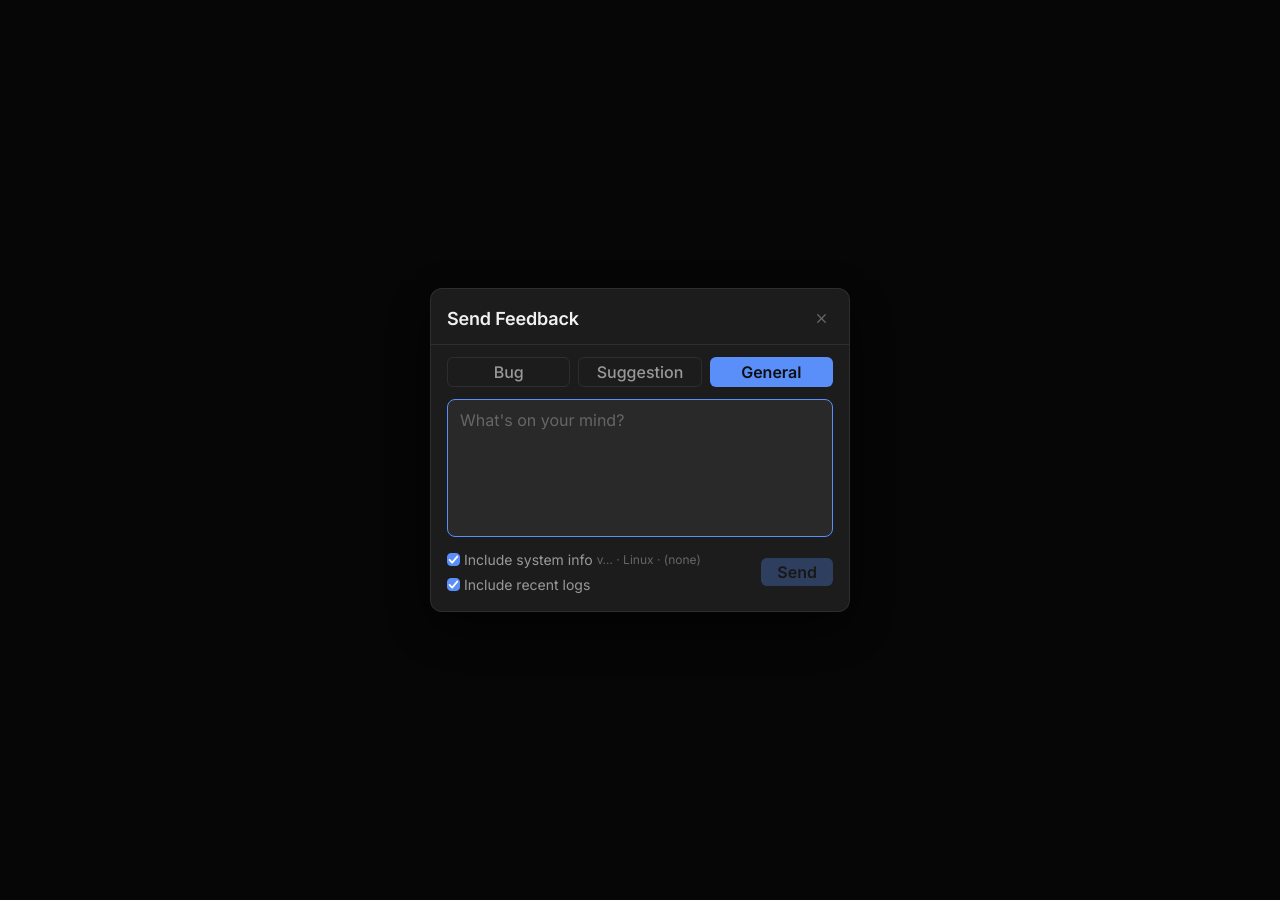
Scenario: FeedbackModal › logs why a send failed
Type "Love it" into the text box with class "feedback-textarea" at (640, 468), box [447,399,833,537]
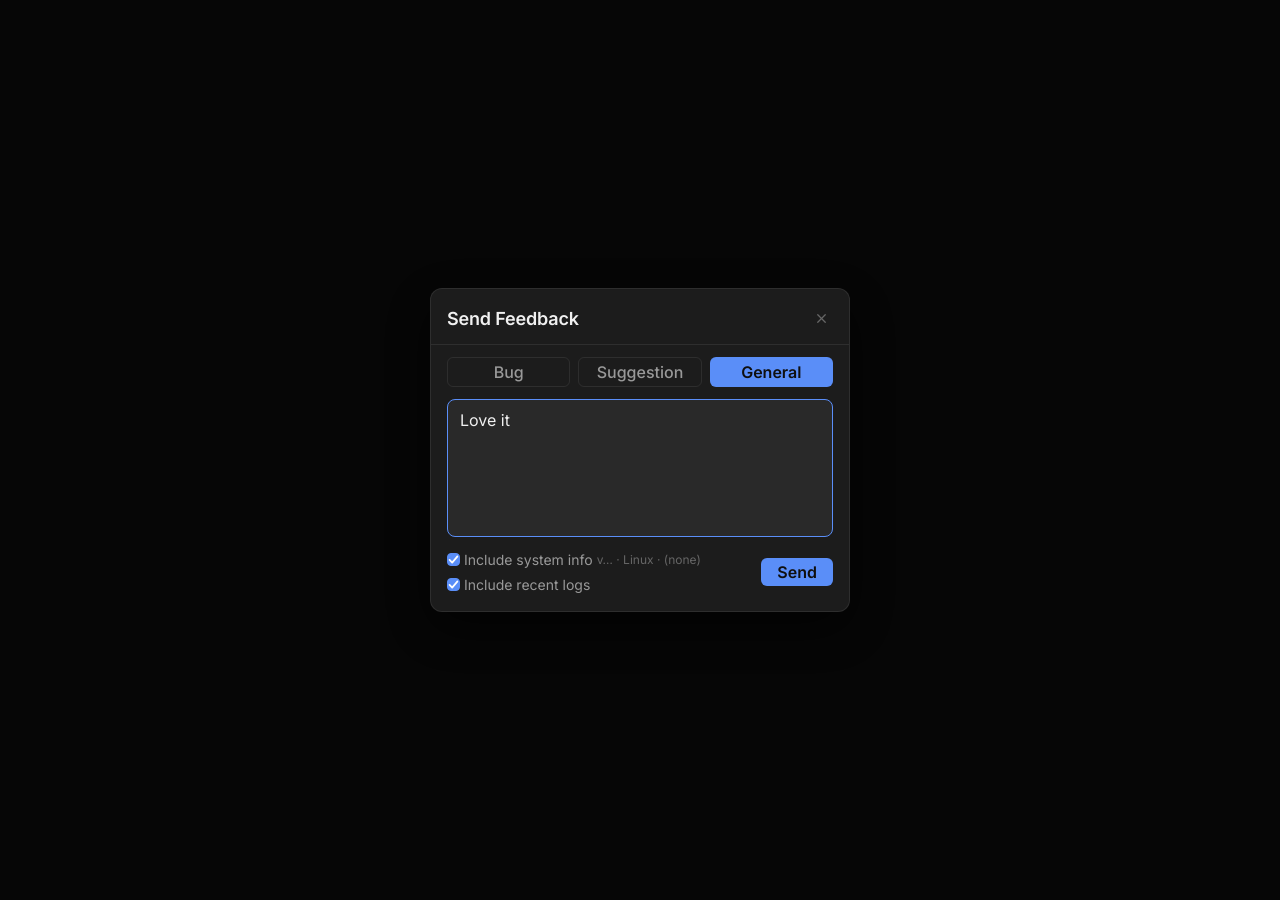
Click the button "Send" at (797, 572), box [761,558,833,586]
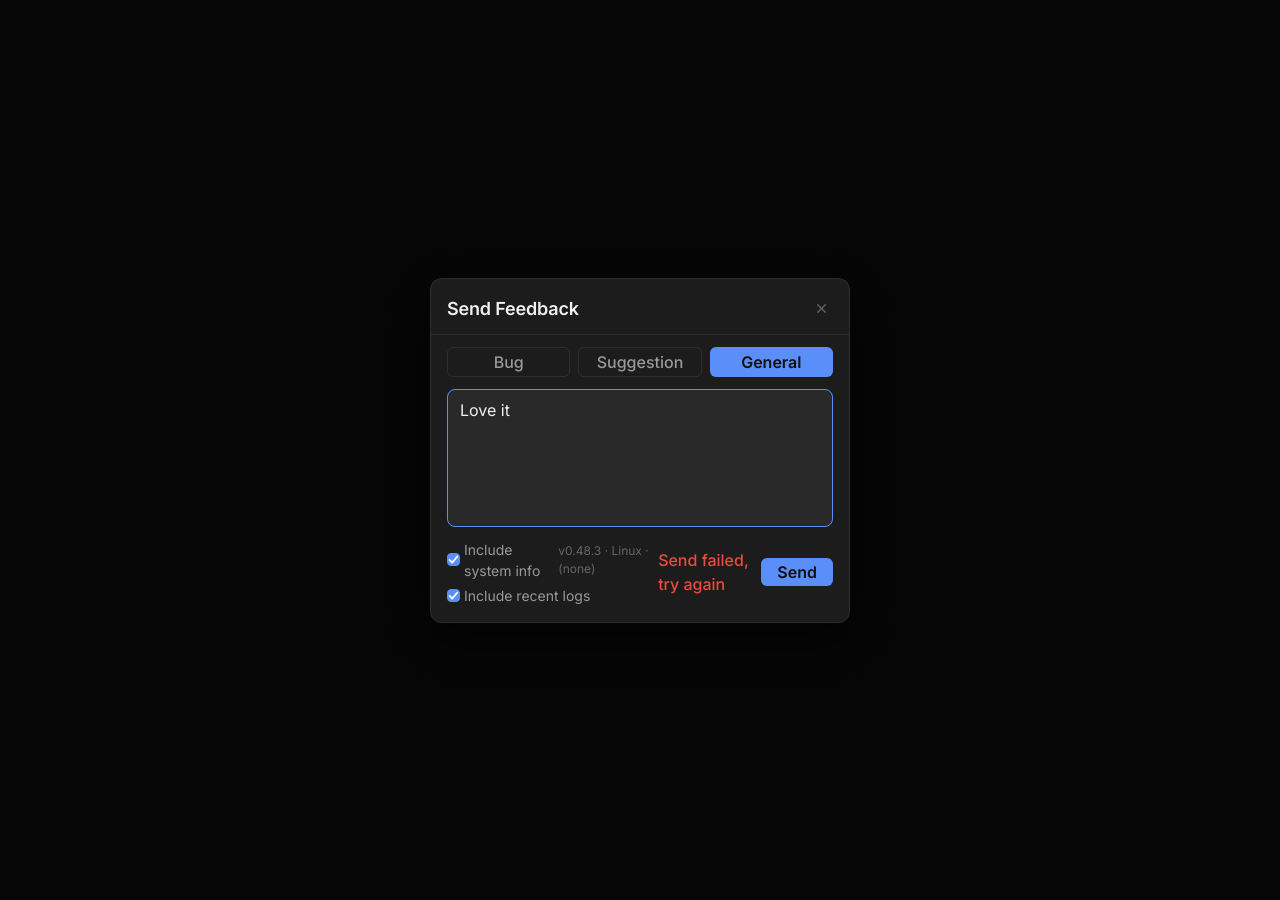
Result: the text "Send failed, try again" is shown at [658,548,753,596]
